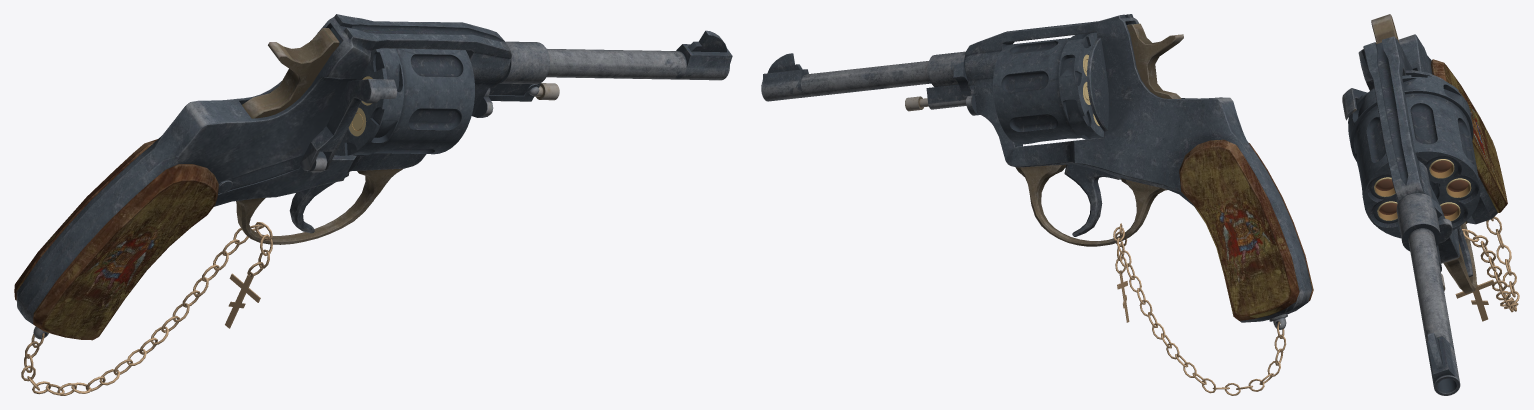
File: nagant.glb
3 views of the same model, side by side, from view 1: azimuth 30°, elevation 25°; view 2: azimuth 150°, elevation 25°; view 3: azimuth 270°, elevation 25° (orthographic). The views are drawn at different scales.
Visible parts, largest first — view 1: Body, Drum, Chain with Cross, Hammer, Safety Switch, Ejector Sleeve, trigger; view 2: Body, Drum, Chain with Cross, Ejector Sleeve, Hammer, trigger; view 3: Body, Drum, Chain with Cross, Ejector Sleeve, Hammer, Safety Switch, trigger, Cylinder Pin, Case, Case.001, Projectile, Projectile.001 (+4 smaller).
Boxes of the visible parts, left/top/right/bottom form: Body: left=14, top=14, right=732, bottom=340; Drum: left=335, top=48, right=474, bottom=156; Chain with Cross: left=21, top=222, right=272, bottom=395; Hammer: left=242, top=28, right=339, bottom=118; Safety Switch: left=300, top=79, right=397, bottom=170; Ejector Sleeve: left=488, top=41, right=549, bottom=101; trigger: left=289, top=172, right=349, bottom=233; Body: left=761, top=14, right=1313, bottom=329; Drum: left=993, top=32, right=1103, bottom=144; Chain with Cross: left=1113, top=223, right=1286, bottom=395; Ejector Sleeve: left=926, top=51, right=973, bottom=109; Hammer: left=1127, top=23, right=1183, bottom=98; trigger: left=1064, top=164, right=1120, bottom=236; Body: left=1358, top=34, right=1507, bottom=395; Drum: left=1348, top=75, right=1480, bottom=238; Chain with Cross: left=1455, top=216, right=1519, bottom=321; Ejector Sleeve: left=1396, top=193, right=1442, bottom=271; Hammer: left=1371, top=14, right=1399, bottom=43; Safety Switch: left=1342, top=88, right=1367, bottom=120; trigger: left=1457, top=226, right=1472, bottom=277; Cylinder Pin: left=1438, top=218, right=1452, bottom=243; Case: left=1429, top=159, right=1454, bottom=178; Case.001: left=1446, top=178, right=1471, bottom=197; Projectile: left=1431, top=160, right=1451, bottom=172; Projectile.001: left=1447, top=180, right=1468, bottom=191.
Bounding box in the file's own units: 929 × 489 × 221.
Materials: 4 (4 with a texture image).
